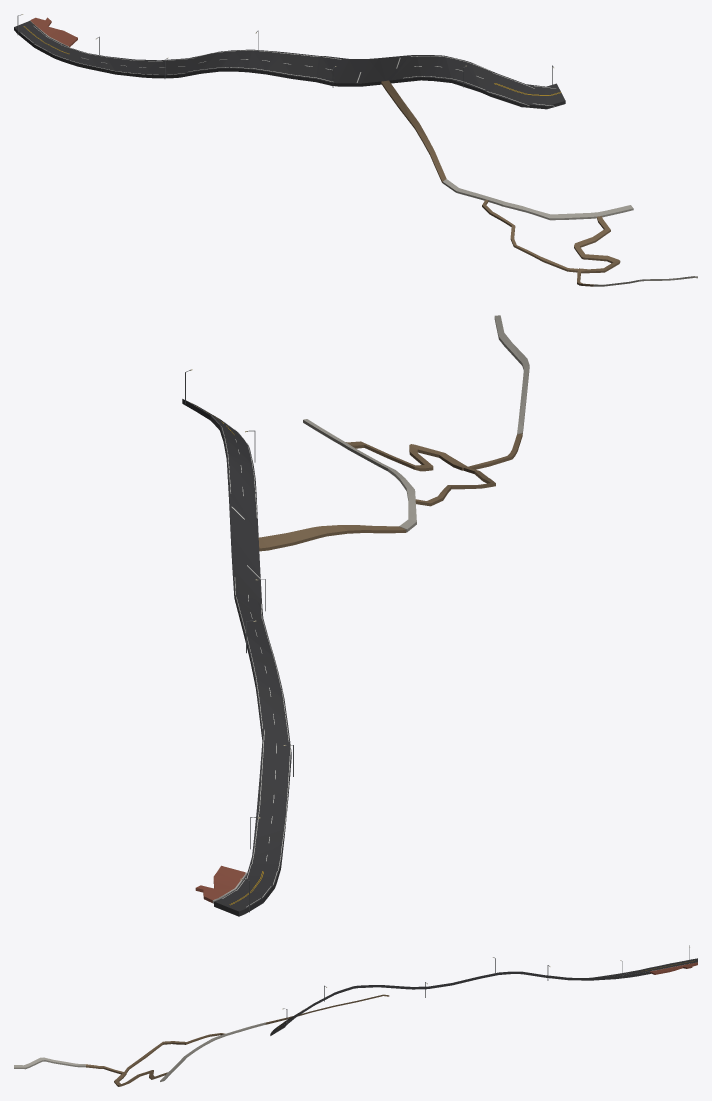
3 views of the same model, one above another, from view 1: azimuth 30°, elevation 25°; view 2: azimuth 150°, elevation 25°; view 3: azimuth 270°, elevation 25° (orthographic). The views are drawn at different scales.
Size of the model in its own units: 116 by 44.58 by 292.
